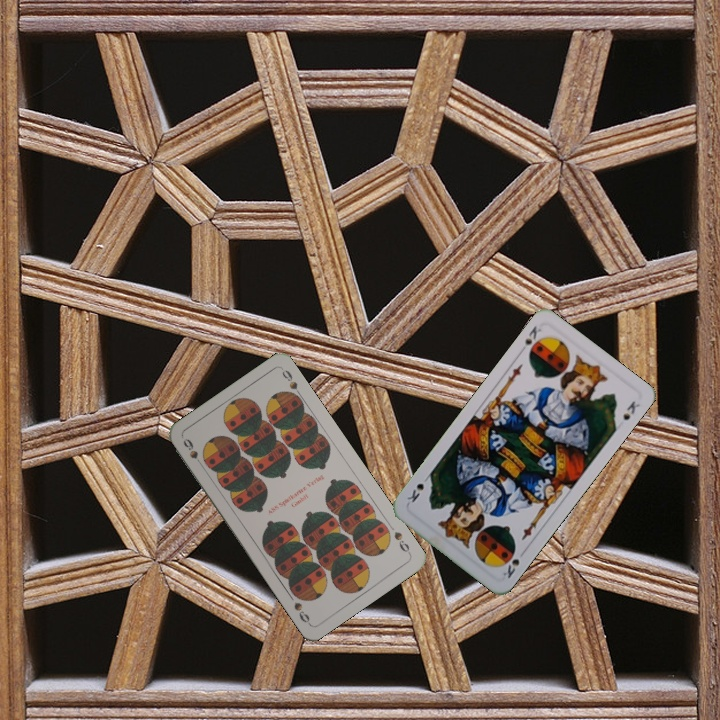S9: (179, 434, 206, 471), (390, 527, 413, 557)
SK: (499, 546, 528, 581), (515, 322, 544, 356)
